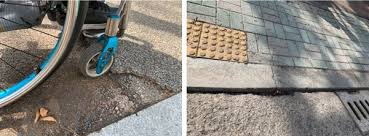guide_blocks: (188, 20, 247, 63)
